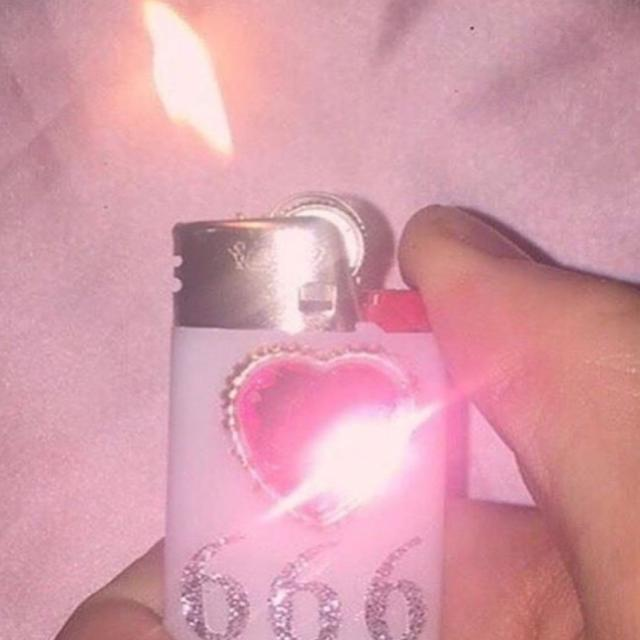fire: (143, 0, 233, 161)
